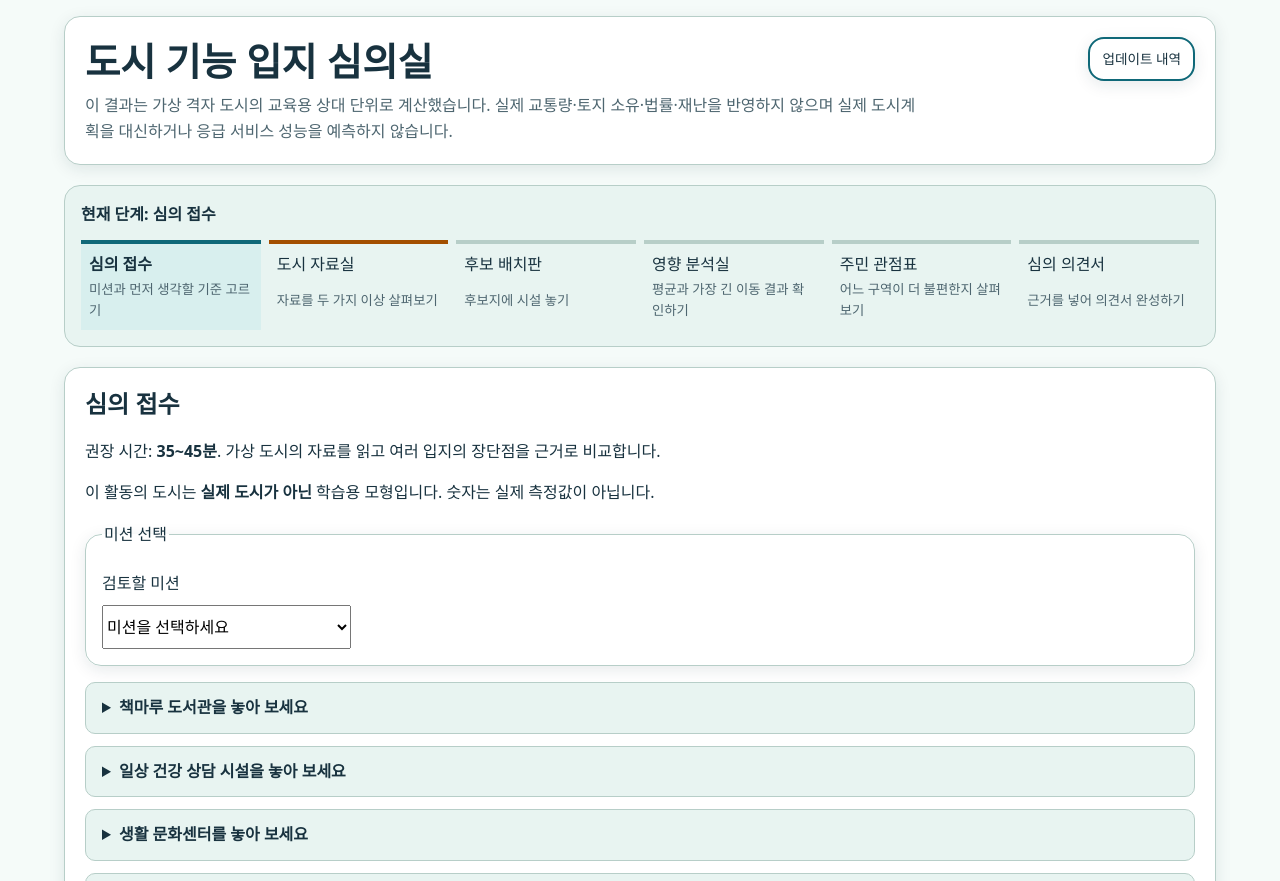
Test case: ReviewIntake › shows purpose budget conditions and three priority choices
Expected: the heading "심의 접수" is shown, x1=85 y1=387 x2=180 y2=420
Expected: the text "35~45분" is shown, x1=156 y1=440 x2=217 y2=462
Select "일상 건강 상담 시설을 놓아 보세요" in the dropdown named "미션 선택" at (226,627), box x1=102 y1=605 x2=351 y2=649
(page scrolled)
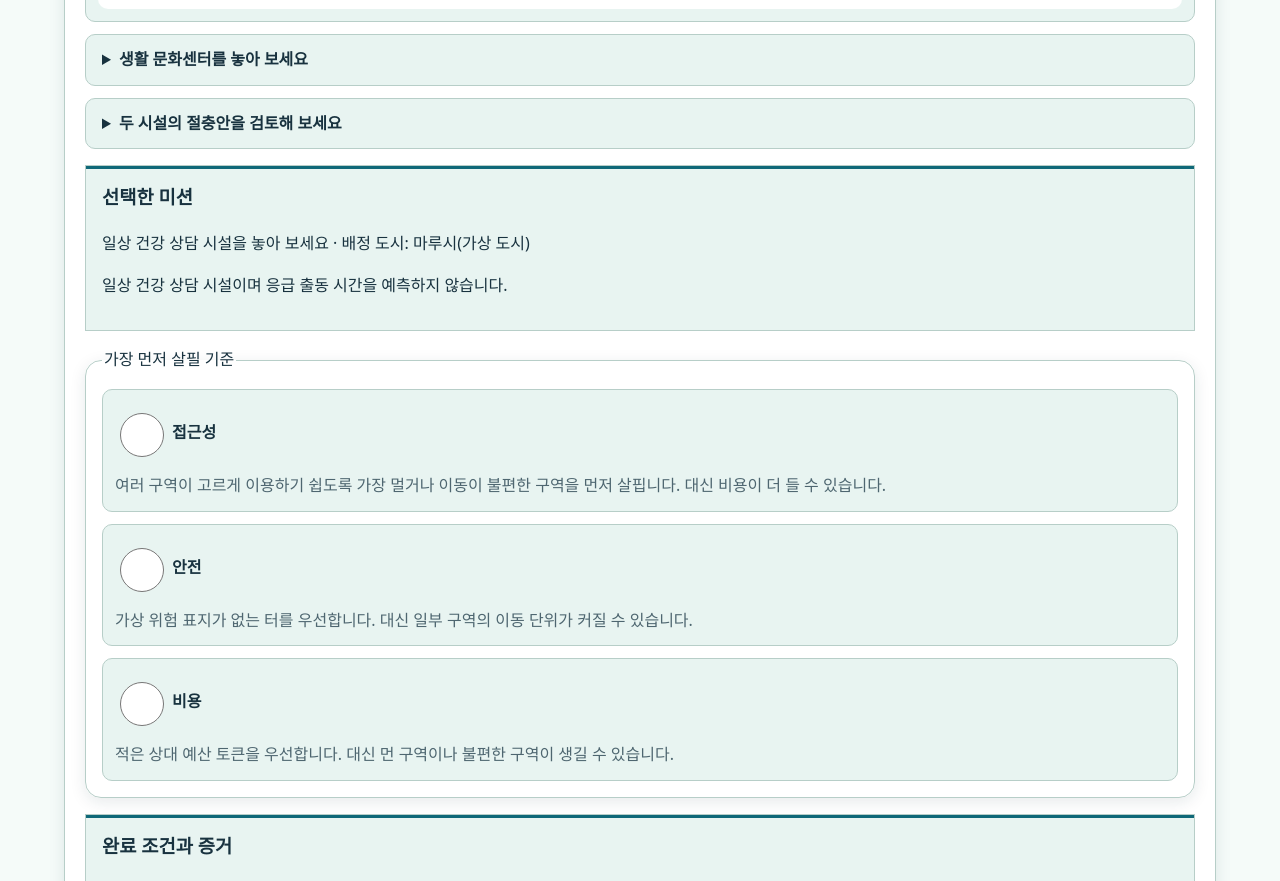
Click the radio button labelled "접근성" at (142,435), box x1=120 y1=413 x2=164 y2=457
(page scrolled)
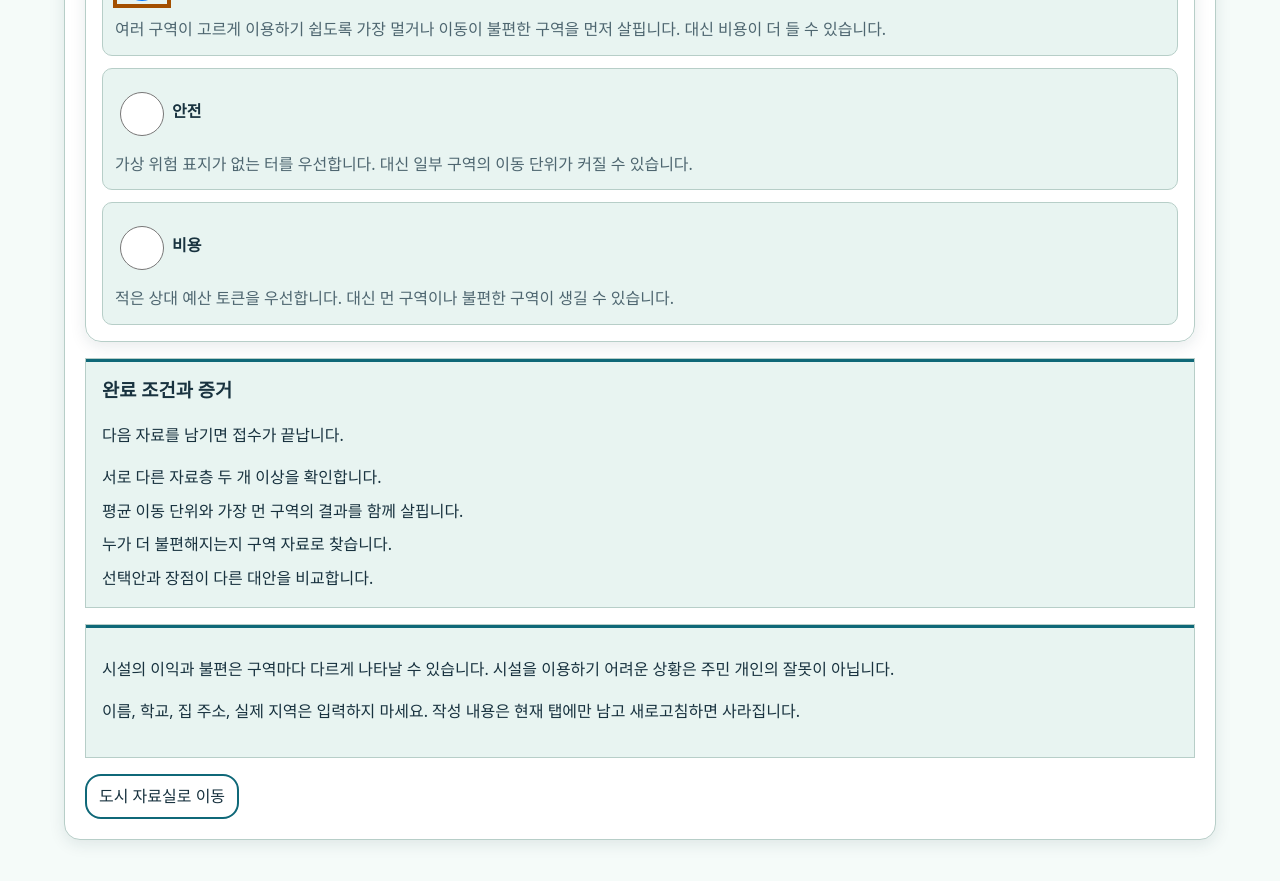
Expected: the button "도시 자료실로 이동" is enabled, x1=85 y1=774 x2=239 y2=819
